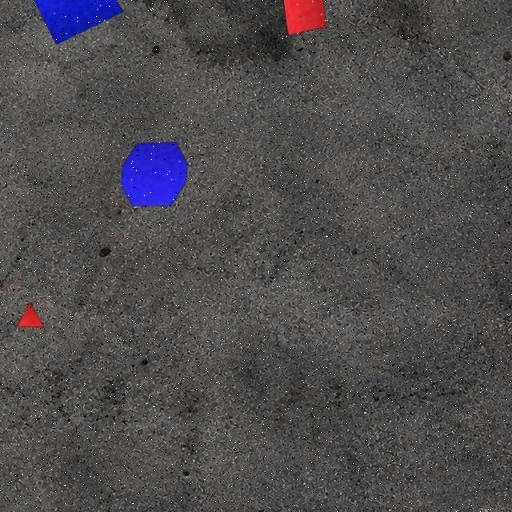BLUE_SQUARE: (26, 0, 124, 46)
RED_SQUARE: (282, 0, 328, 36)
